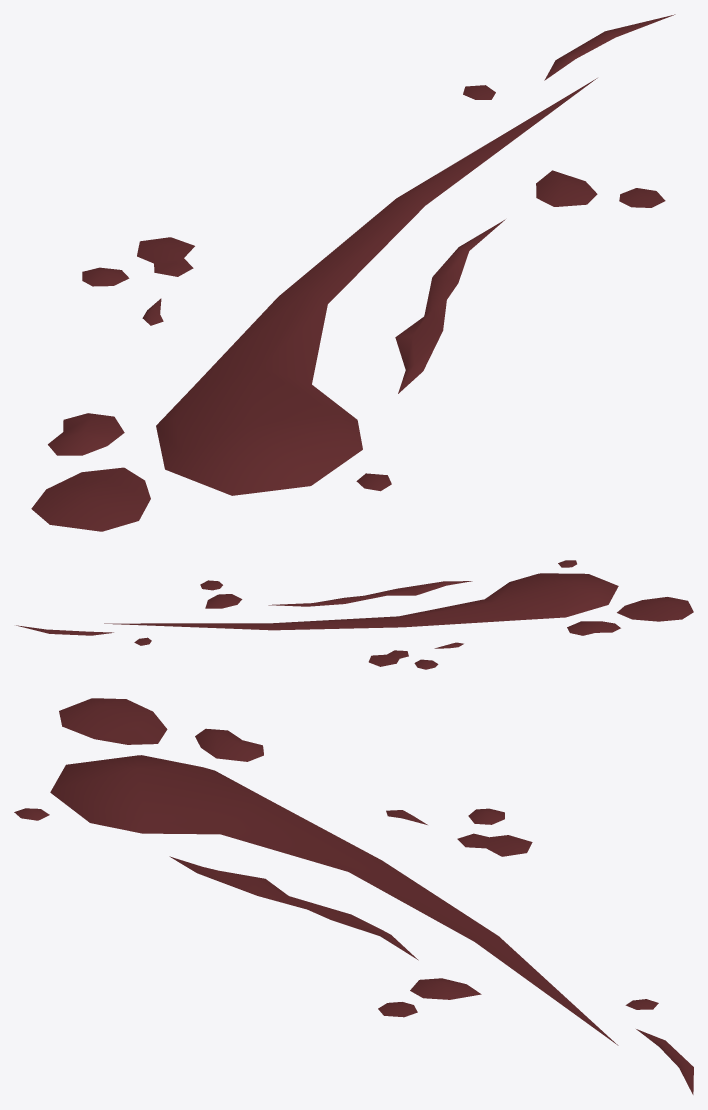
Rendered from Blood 05.fbx.
The picture shows the model from 3 angles, top to bottom: view 1: azimuth 30°, elevation 25°; view 2: azimuth 150°, elevation 25°; view 3: azimuth 270°, elevation 25°; orthographic projection. The views are drawn at different scales.
Visible parts, largest first — view 1: Blood_05; view 2: Blood_05; view 3: Blood_05.
Part boxes in pixels (x1=…): Blood_05: x1=31, y1=14, x2=675, y2=531; Blood_05: x1=16, y1=560, x2=693, y2=669; Blood_05: x1=14, y1=698, x2=693, y2=1094.
Bounding box in the file's own units: 63.79 × 1.52 × 46.1.
